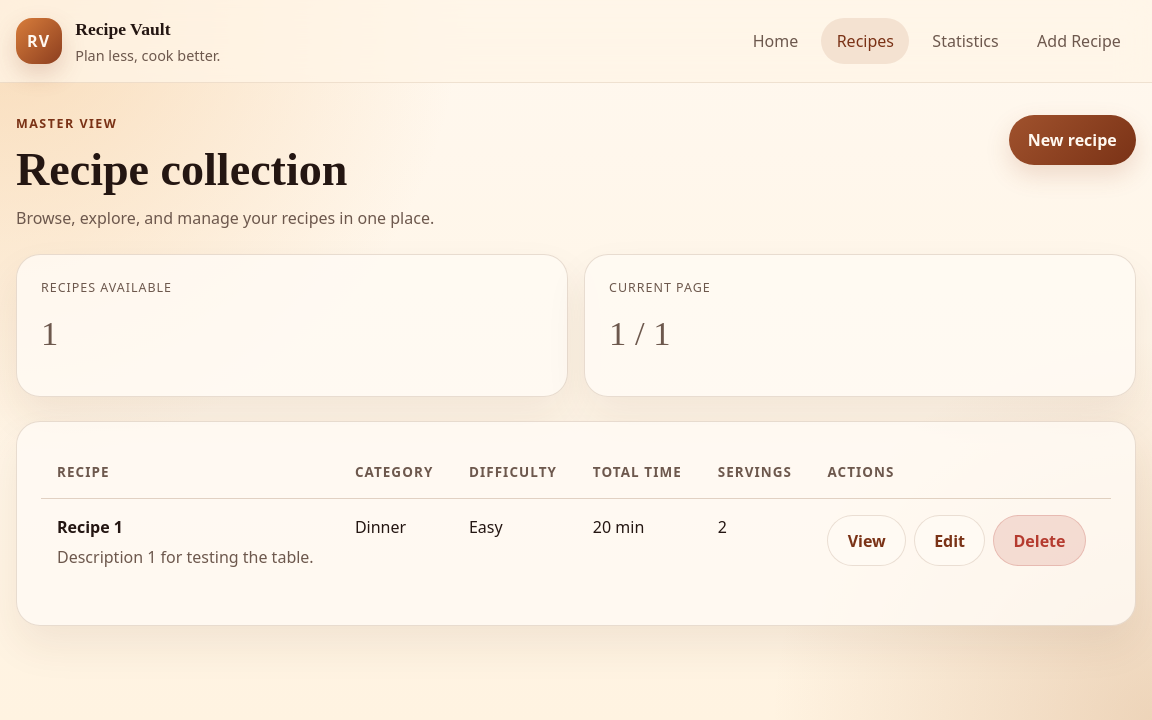
Scenario: Recipes page › removes a recipe when deletion is confirmed from the table
The image size is (1152, 720).
Expected: the link "Recipe 1" is shown, [57,516,123,538]
Click the button "Delete" at [1040, 541], box [993,515,1086,566]
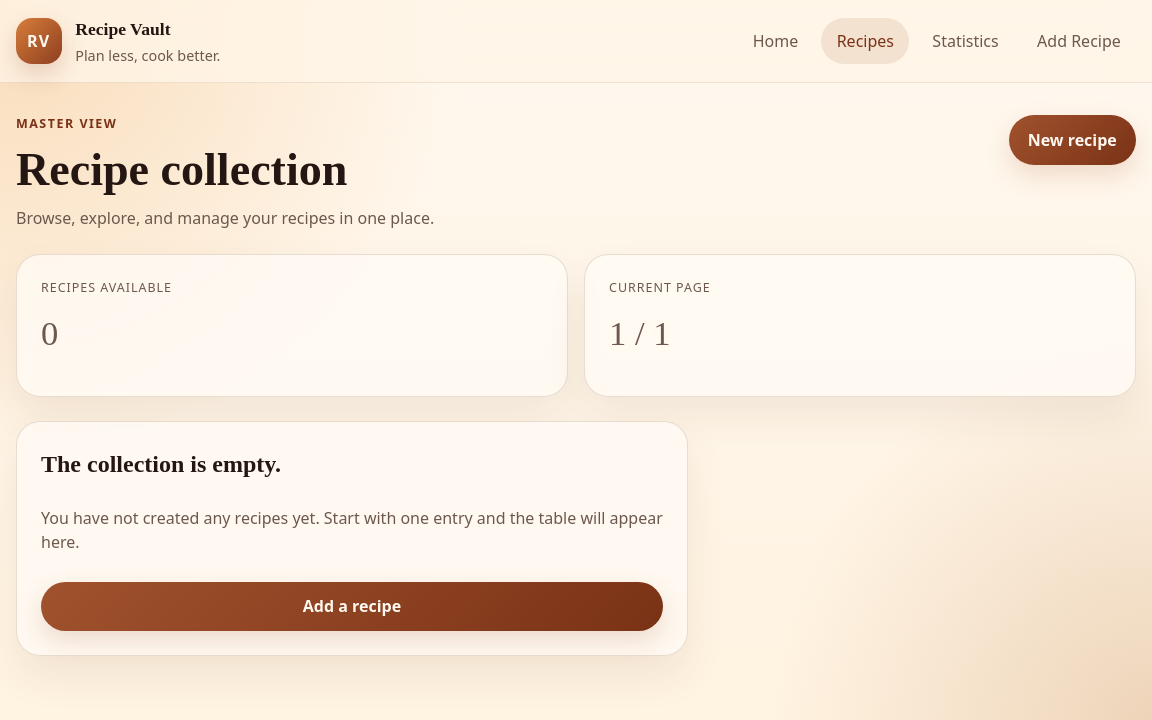
Now the table is gone
